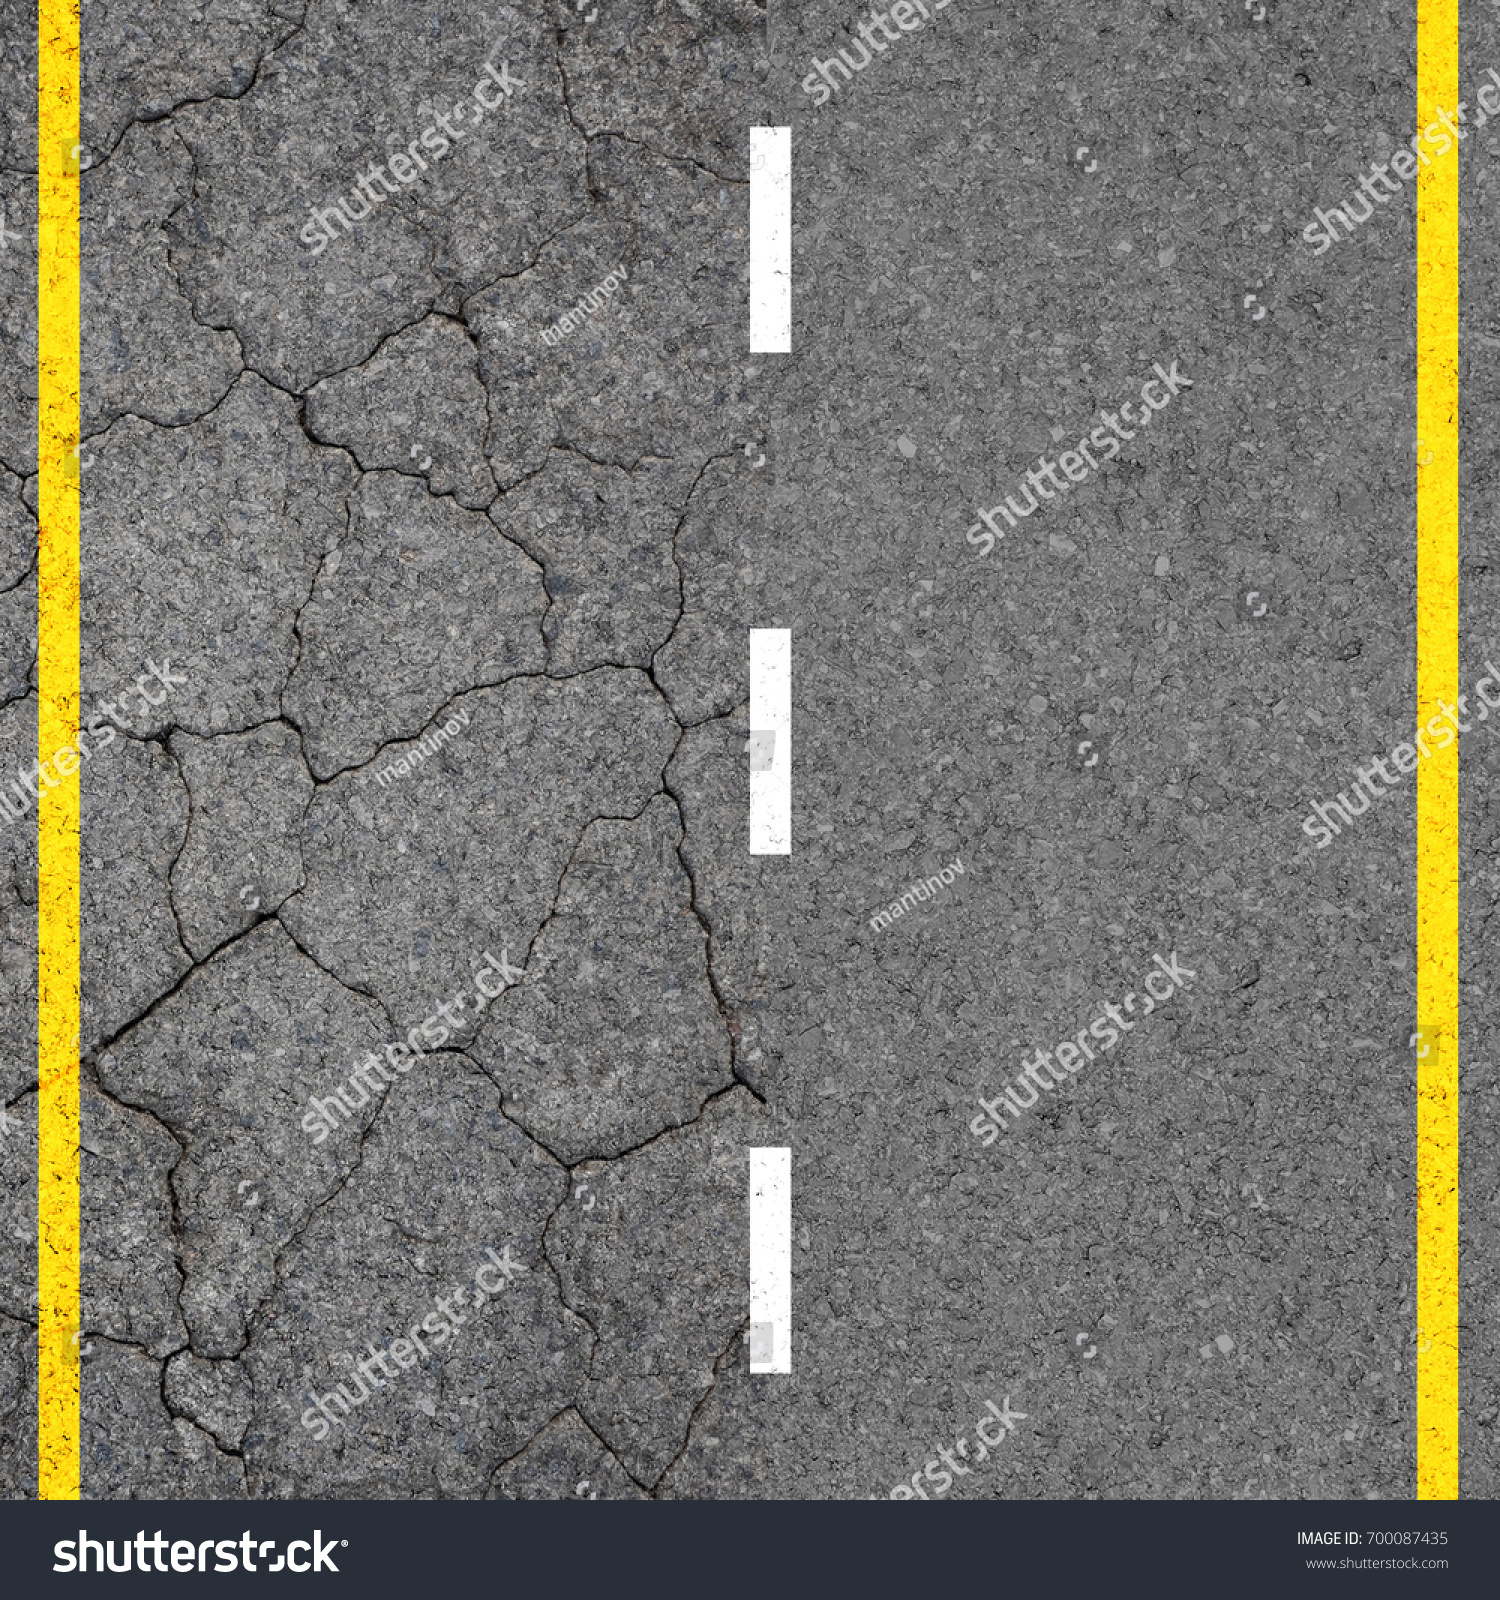LaneMark: (37, 3, 86, 1499), (1420, 3, 1456, 1493), (750, 1143, 799, 1374), (747, 123, 795, 358), (750, 622, 794, 860)
